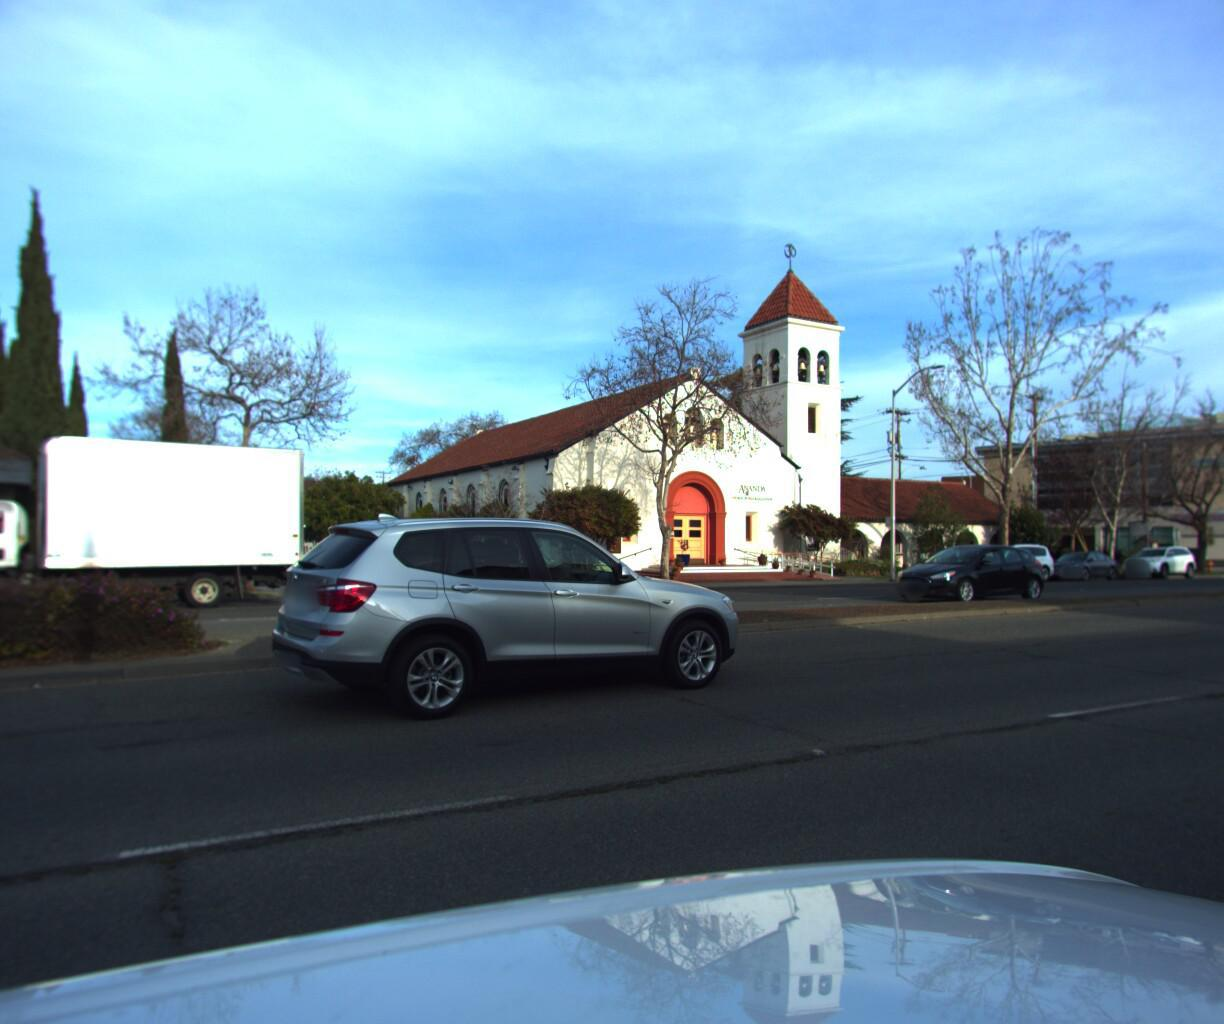car: (261, 492, 748, 727), (879, 539, 1052, 604), (946, 537, 1059, 579), (1109, 538, 1195, 574), (1030, 544, 1121, 577)
